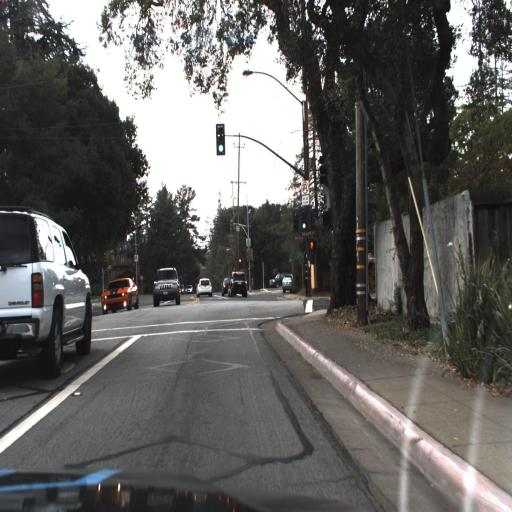car: (0, 203, 95, 379), (100, 276, 139, 315), (152, 267, 180, 306), (228, 269, 249, 299), (196, 277, 213, 297), (267, 274, 281, 289)
trafficLight-Green: (215, 121, 225, 156), (300, 207, 307, 232)
